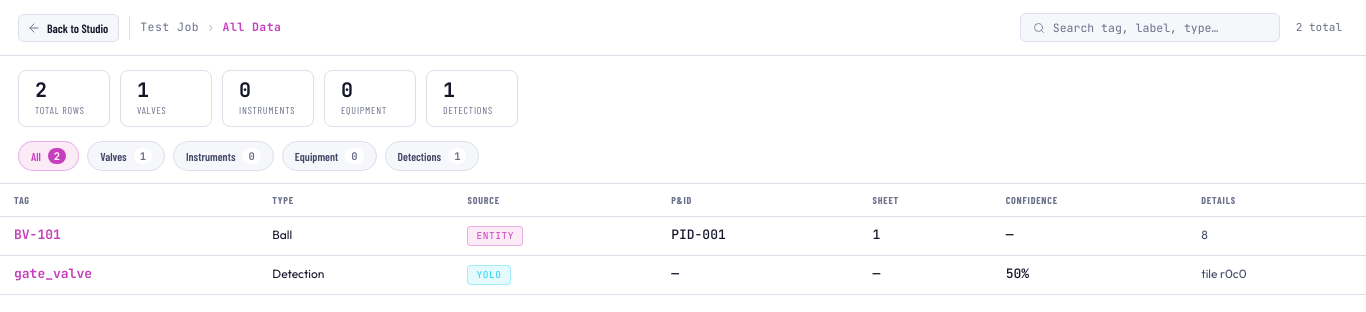
it: AllDataView › filters by type chip (Detections shows only YOLO rows)
The width and height of the screenshot is (1366, 312).
Expected: the text "BV-101" is shown, [0,216,258,255]
// Click the "Detections" chip → entity row disappears, detection remains.
Click the tab "Detections 1": click(432, 156) [385,140,480,170]
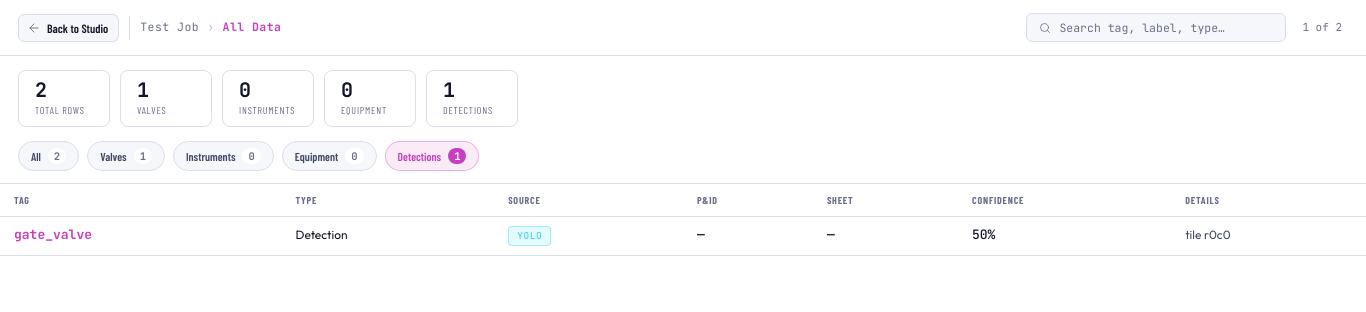
Expected: the text "gate_valve" is shown, [0,216,282,255]
Result: the text "BV-101" is gone
